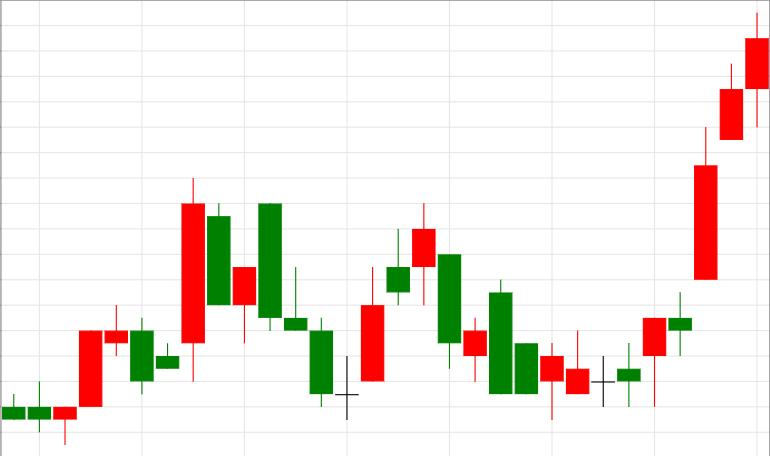morning_star_rise: (207, 203, 384, 419)
